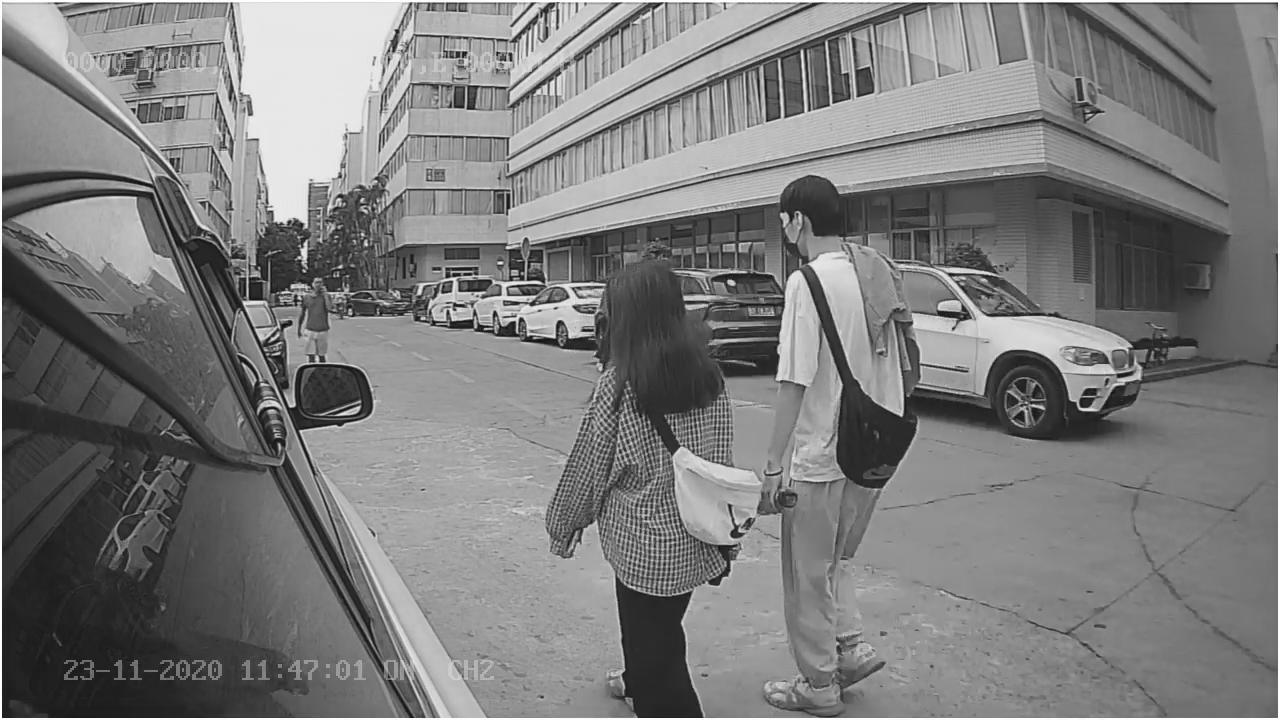person: (767, 162, 917, 711)
